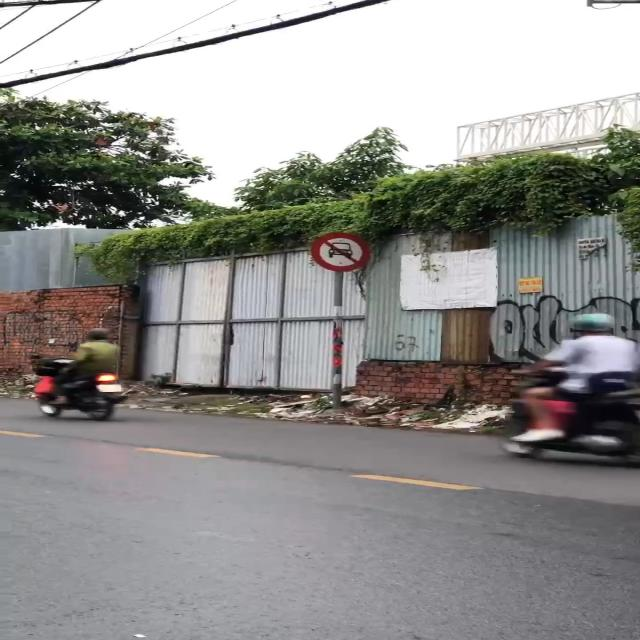Bien bao cam xe oto: (308, 228, 376, 274)
